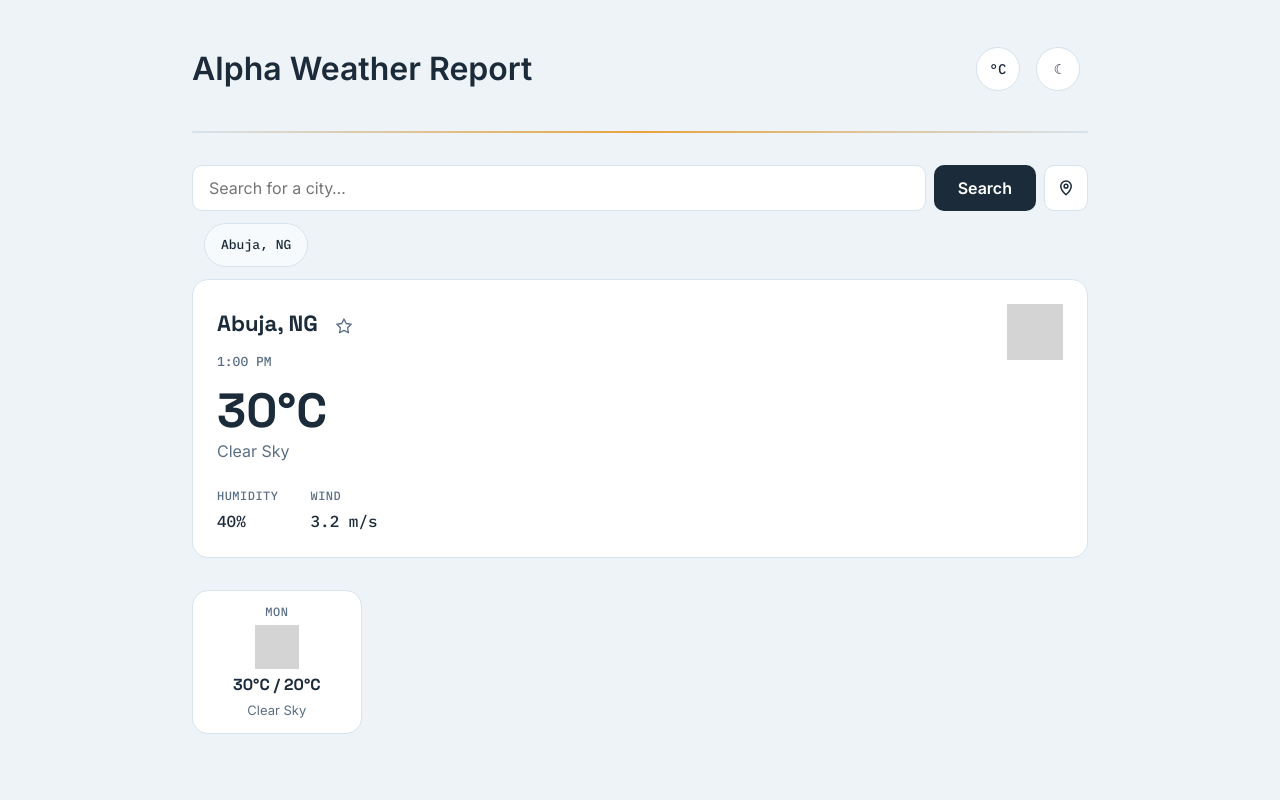
Test: App — geolocation (Step 28) › on denial/failure, shows the inline fallback message without blanking the existing display
Expected: the text "30°C" is shown, left=217, top=380, right=327, bottom=441
Click the button named "use my location" at (1066, 188), box left=1044, top=165, right=1088, bottom=211
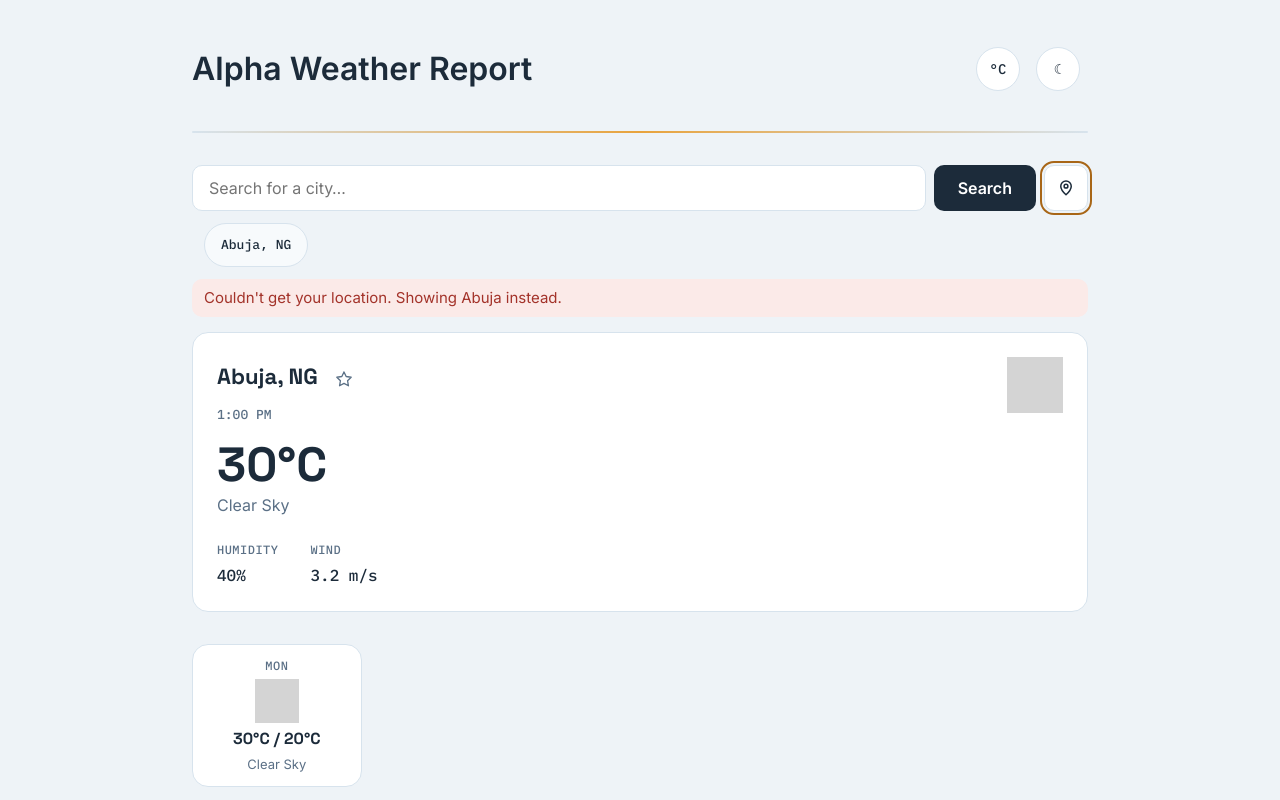
Expected: the text "30°C" is shown, left=217, top=434, right=327, bottom=495
Result: the message reads "Couldn't get your location. Showing Abuja instead." at left=204, top=288, right=562, bottom=307
